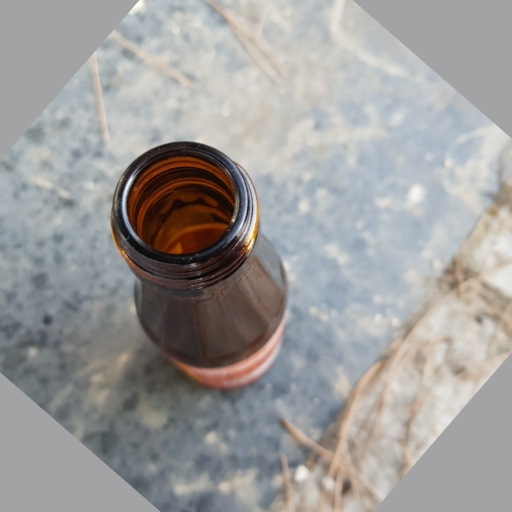Glass_3: (103, 135, 291, 396)
